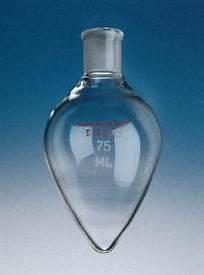Pear shaped flask: (43, 21, 169, 254)
